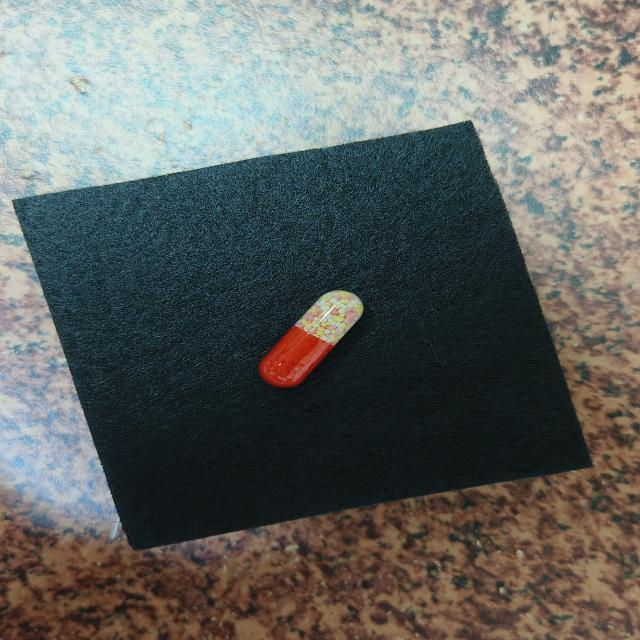Intact Capsule: (258, 290, 364, 387)
